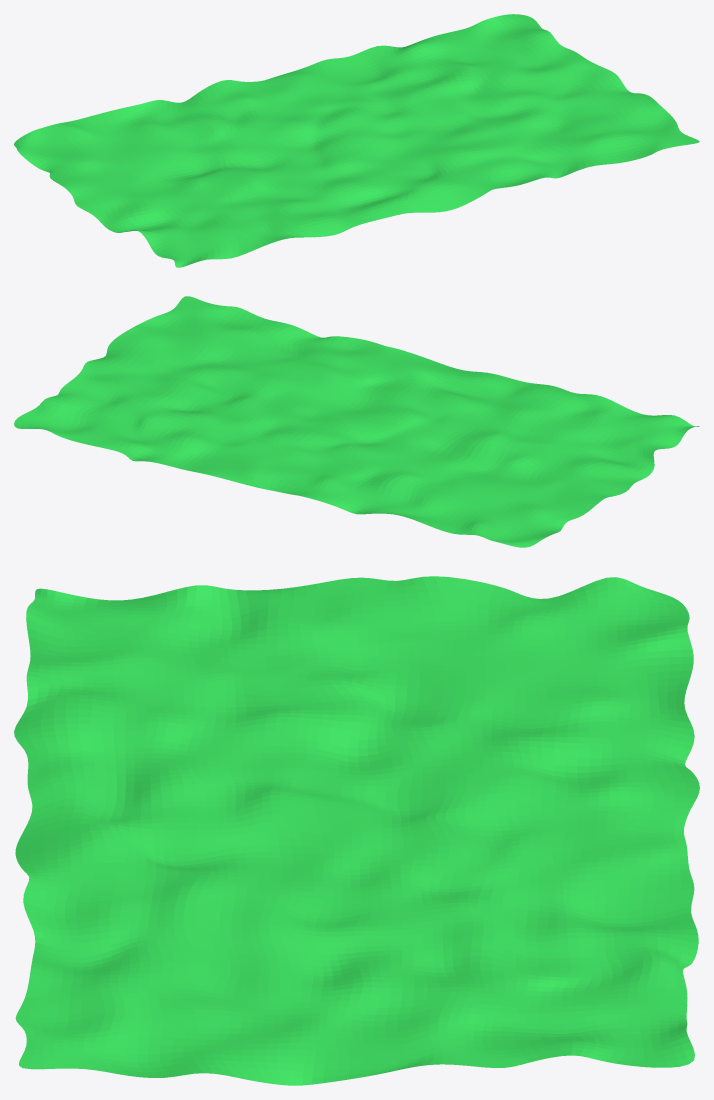
Rendered from grass1.glb.
3 renders of one model, top to bottom at view 1: azimuth 30°, elevation 25°; view 2: azimuth 150°, elevation 25°; view 3: azimuth 270°, elevation 25°, orthographic. The views are drawn at different scales.
Visible parts, largest first — view 1: Plane; view 2: Plane; view 3: Plane.
Part boxes in pixels (box(x1,y1,x2,y2)): Plane: box(14, 14, 699, 267); Plane: box(14, 296, 699, 547); Plane: box(14, 576, 699, 1085).
Bounding box in the file's own units: 23.7 × 0.4515 × 13.71.
